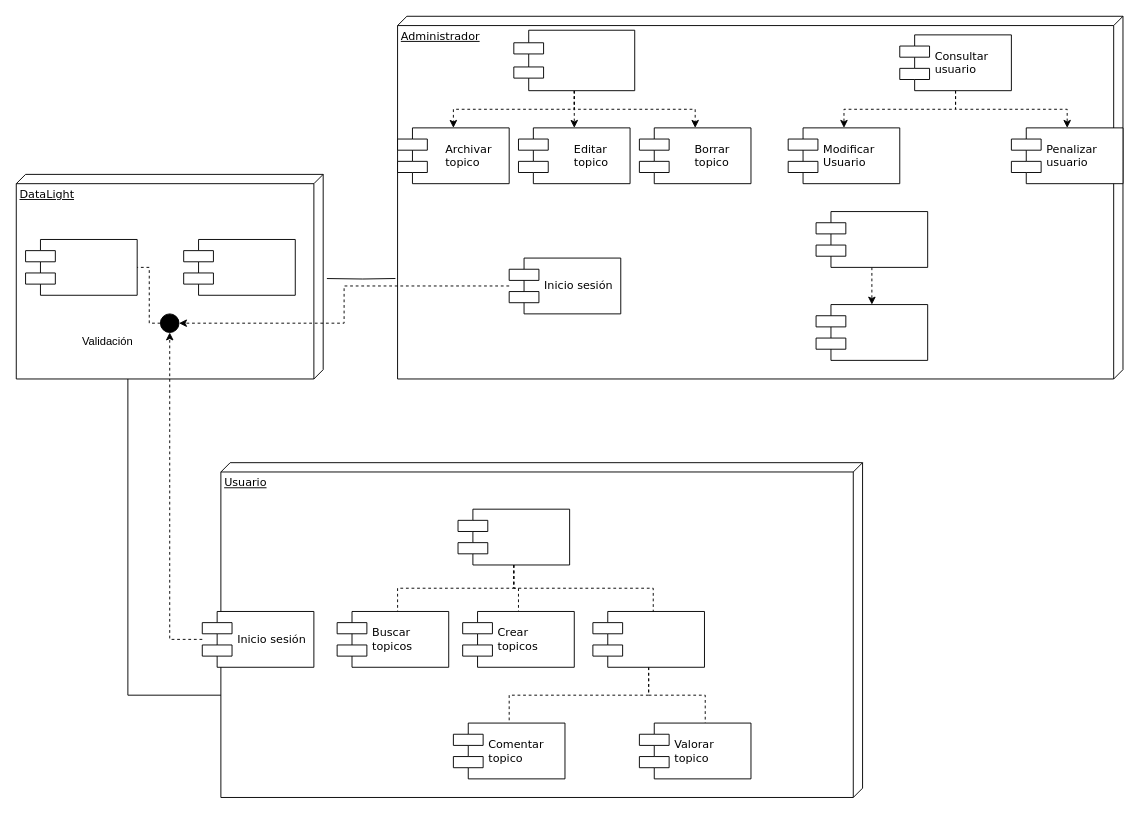
The diagram is 1139 pixels wide and 814 high, and some of its shapes have lost their labels. Here are the shapes that lost their labels. From the top down, the centre of each, then its label:
pixel 574 60: Consultar topico
pixel 871 239: Consultar analiticas
pixel 81 267: Inicio
pixel 239 267: Despliegue de resultados
pixel 871 332: Exportar analiticas
pixel 513 536: Topicos
pixel 648 639: Consultar topicos
